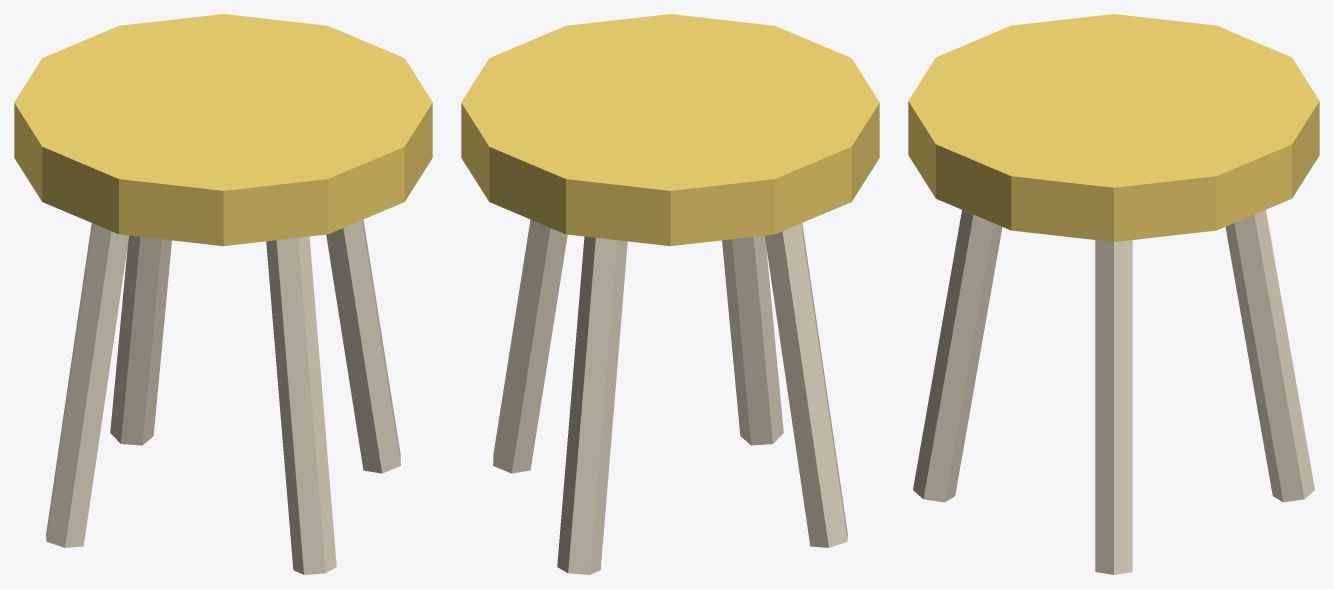
3 views of the same model, side by side, from view 1: azimuth 30°, elevation 25°; view 2: azimuth 150°, elevation 25°; view 3: azimuth 270°, elevation 25° (orthographic).
Visible parts, largest first — view 1: Seat, Leg.003, Leg.002, Leg, Leg.001; view 2: Seat, Leg.001, Leg.002, Leg, Leg.003; view 3: Seat, Leg, Leg.001, Leg.003.
Boxes of the visible parts, <box> form: Seat: <box>14,14,432,246</box>; Leg.003: <box>266,236,336,574</box>; Leg.002: <box>46,223,128,547</box>; Leg: <box>326,219,400,473</box>; Leg.001: <box>110,235,171,445</box>; Seat: <box>461,14,879,246</box>; Leg.001: <box>557,236,627,574</box>; Leg.002: <box>765,223,847,547</box>; Leg: <box>493,219,567,473</box>; Leg.003: <box>722,235,783,445</box>; Seat: <box>908,14,1319,241</box>; Leg: <box>1095,240,1132,574</box>; Leg.001: <box>1225,210,1314,502</box>; Leg.003: <box>913,210,1002,502</box>.
Size of the model in its own units: 48 by 50.89 by 48.
